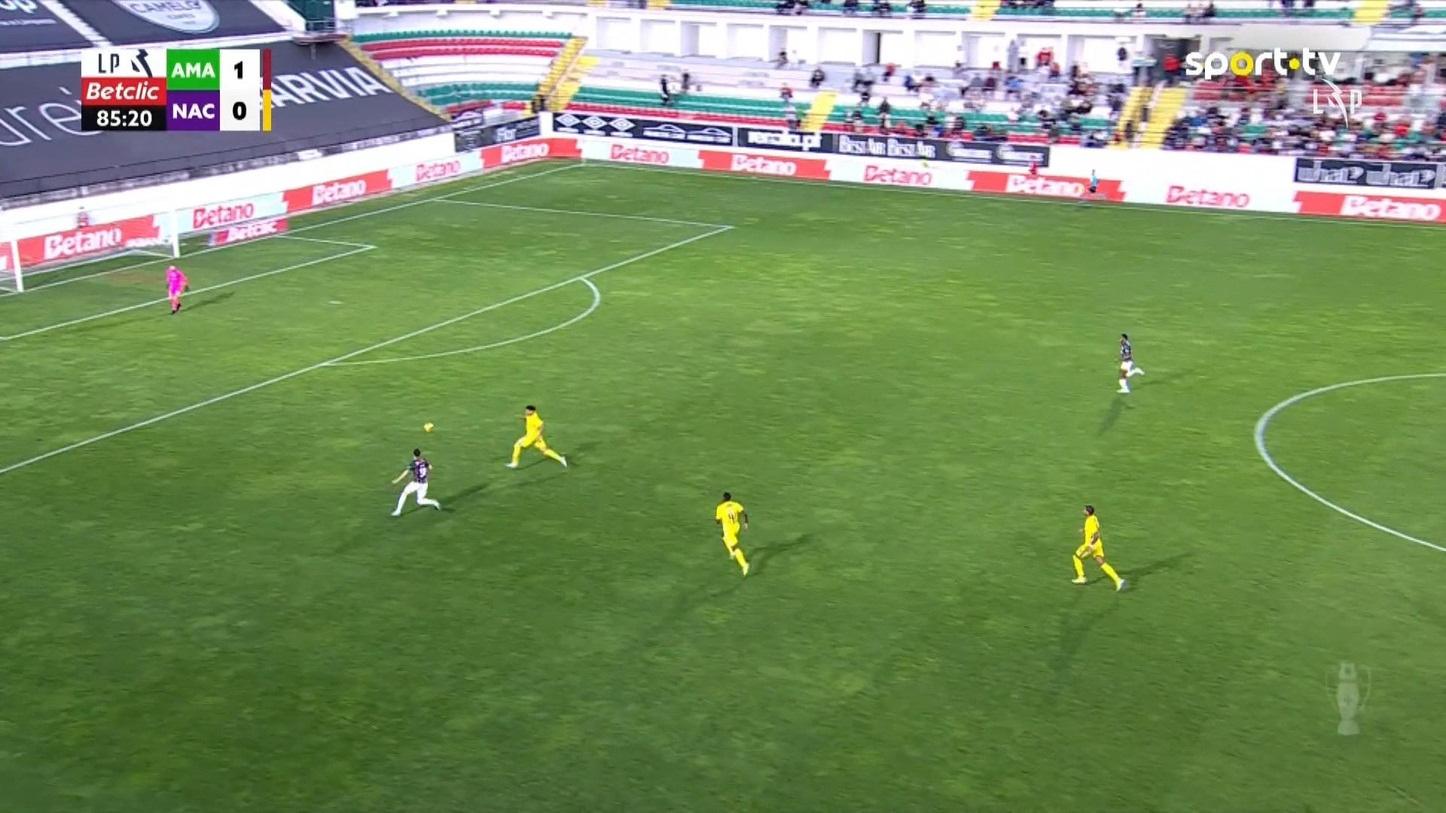ball: (423, 422, 433, 433)
goalkeeper: (165, 263, 189, 314)
player: (1069, 503, 1126, 592), (504, 403, 567, 470), (389, 446, 441, 517), (713, 489, 751, 577), (1114, 332, 1144, 394)
